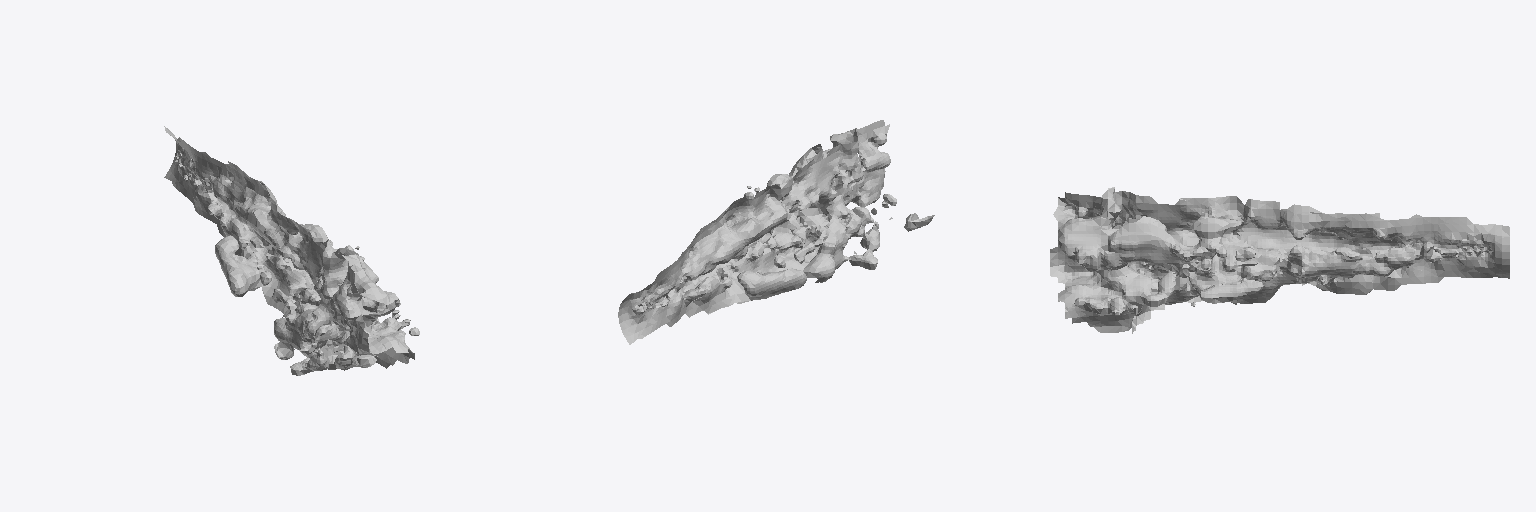
File: dense_mesh.obj
The picture shows the model from 3 angles: view 1: azimuth 30°, elevation 25°; view 2: azimuth 150°, elevation 25°; view 3: azimuth 270°, elevation 25°; orthographic projection.
Bounding box in the file's own units: 390 × 343 × 1076.